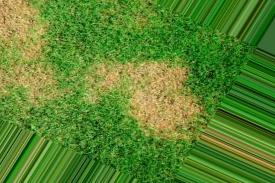patch: (139, 71, 192, 131), (2, 4, 40, 53), (21, 66, 59, 102)
